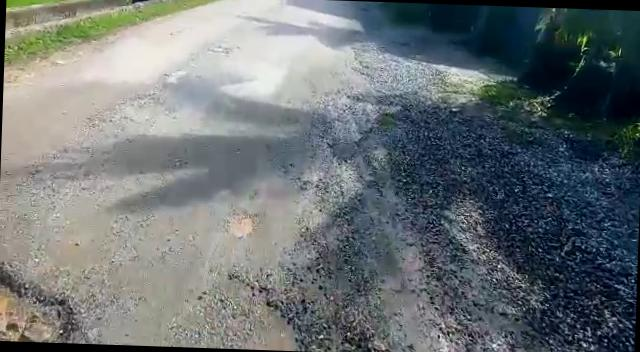pothole: (0, 256, 86, 344)
